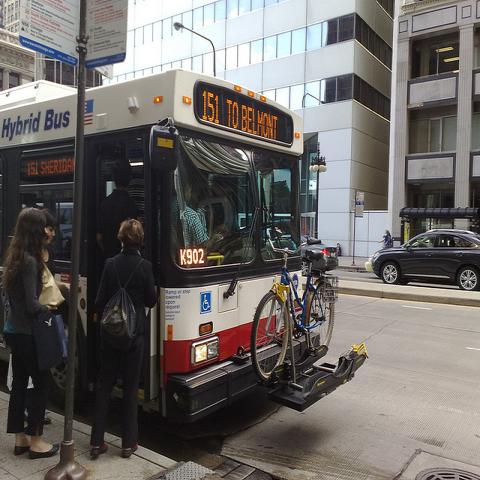bus: (0, 71, 368, 434)
car: (371, 229, 479, 292), (301, 236, 338, 274)
